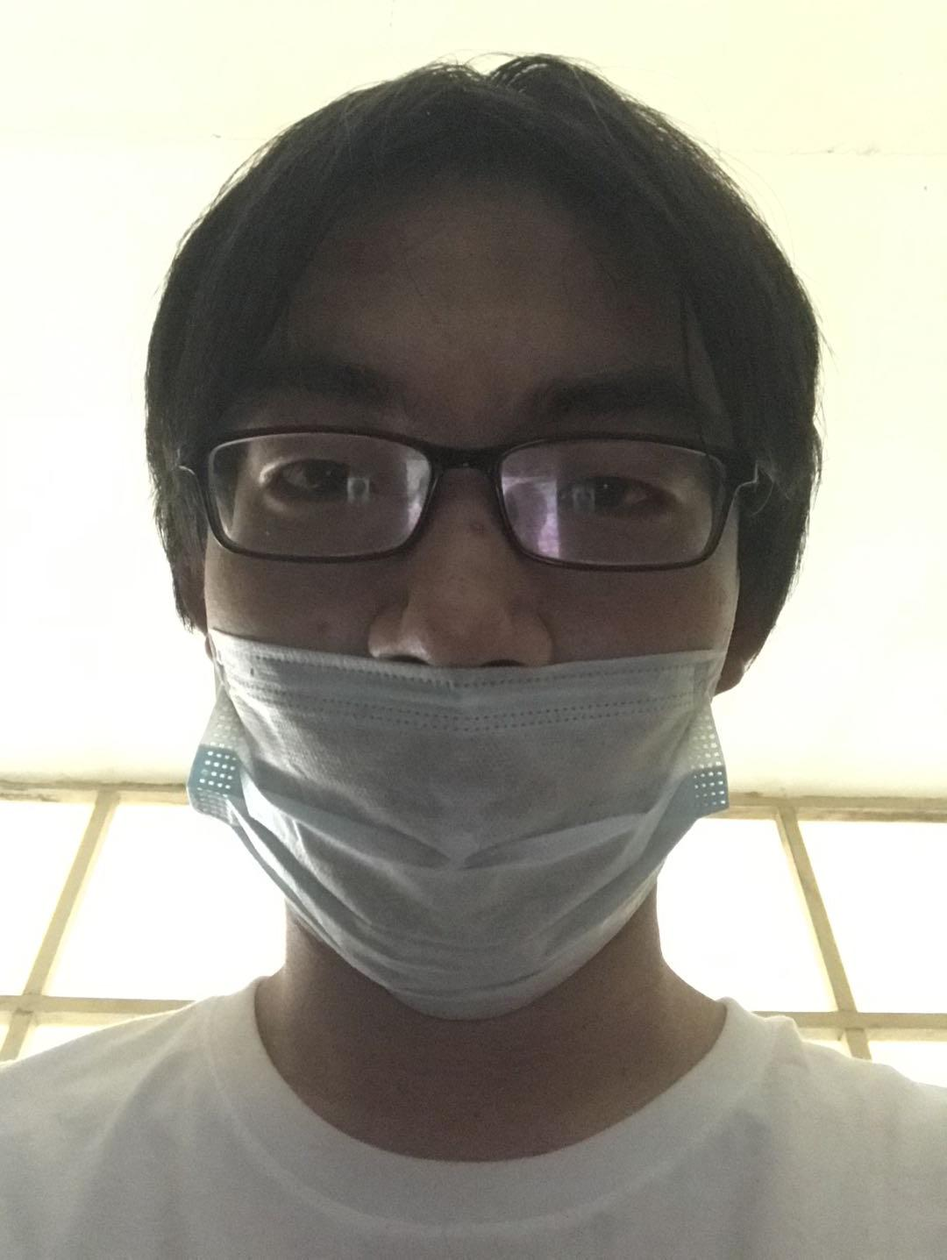WRONG: (210, 316, 735, 997)
